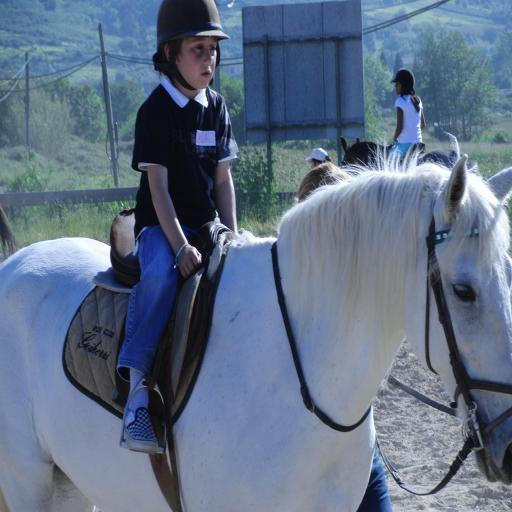horse: (0, 132, 512, 512), (342, 136, 456, 172)
